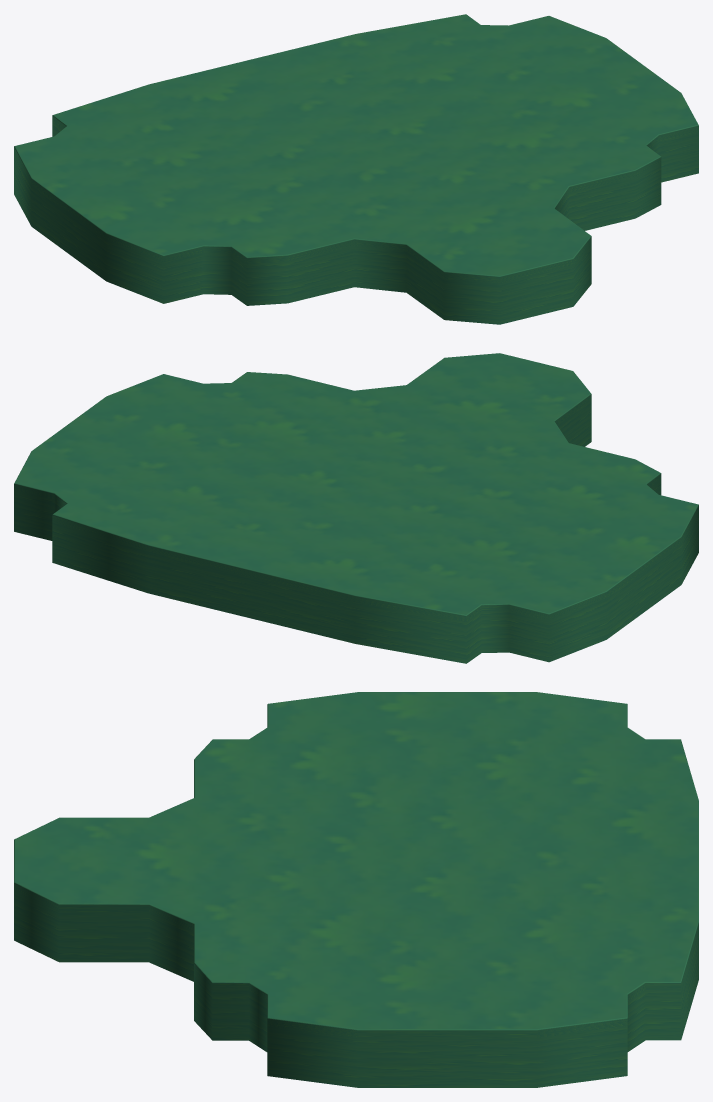
Rendered from reverse-t.glb.
3 renders of one model, top to bottom at view 1: azimuth 30°, elevation 25°; view 2: azimuth 150°, elevation 25°; view 3: azimuth 270°, elevation 25°, orthographic. The views are drawn at different scales.
Parts seen in each view (by area): view 1: geometry_0; view 2: geometry_0; view 3: geometry_0.
Boxes of the visible parts, x1,y1,x2,y2 form: geometry_0: (14,14,698,324); geometry_0: (14,353,698,663); geometry_0: (14,692,698,1087).
Bounding box in the file's own units: 74.51 × 6 × 63.87.
1 material, 1 textured.
